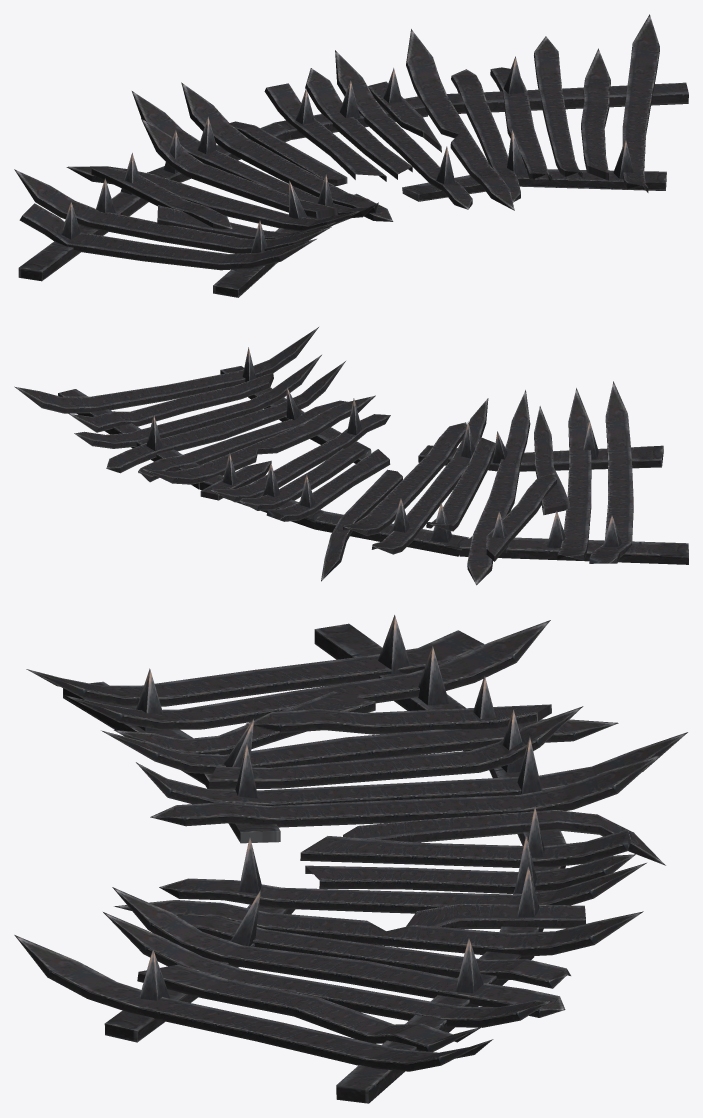
The model's file is 10504_IronRail09.FBX.
3 renders of one model, top to bottom at view 1: azimuth 30°, elevation 25°; view 2: azimuth 150°, elevation 25°; view 3: azimuth 270°, elevation 25°, orthographic. The views are drawn at different scales.
Visible parts, largest first — view 1: 10504_IronRail09; view 2: 10504_IronRail09; view 3: 10504_IronRail09.
Part boxes in pixels (box(x1,y1,x2,y2)): 10504_IronRail09: box(14, 14, 688, 297); 10504_IronRail09: box(14, 327, 688, 585); 10504_IronRail09: box(14, 615, 687, 1103).
Bounding box in the file's own units: 1329 × 156 × 769.
